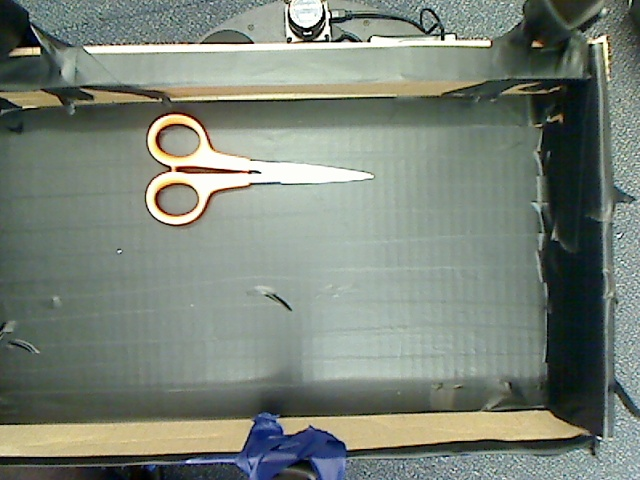scissors: (130, 115, 398, 232)
